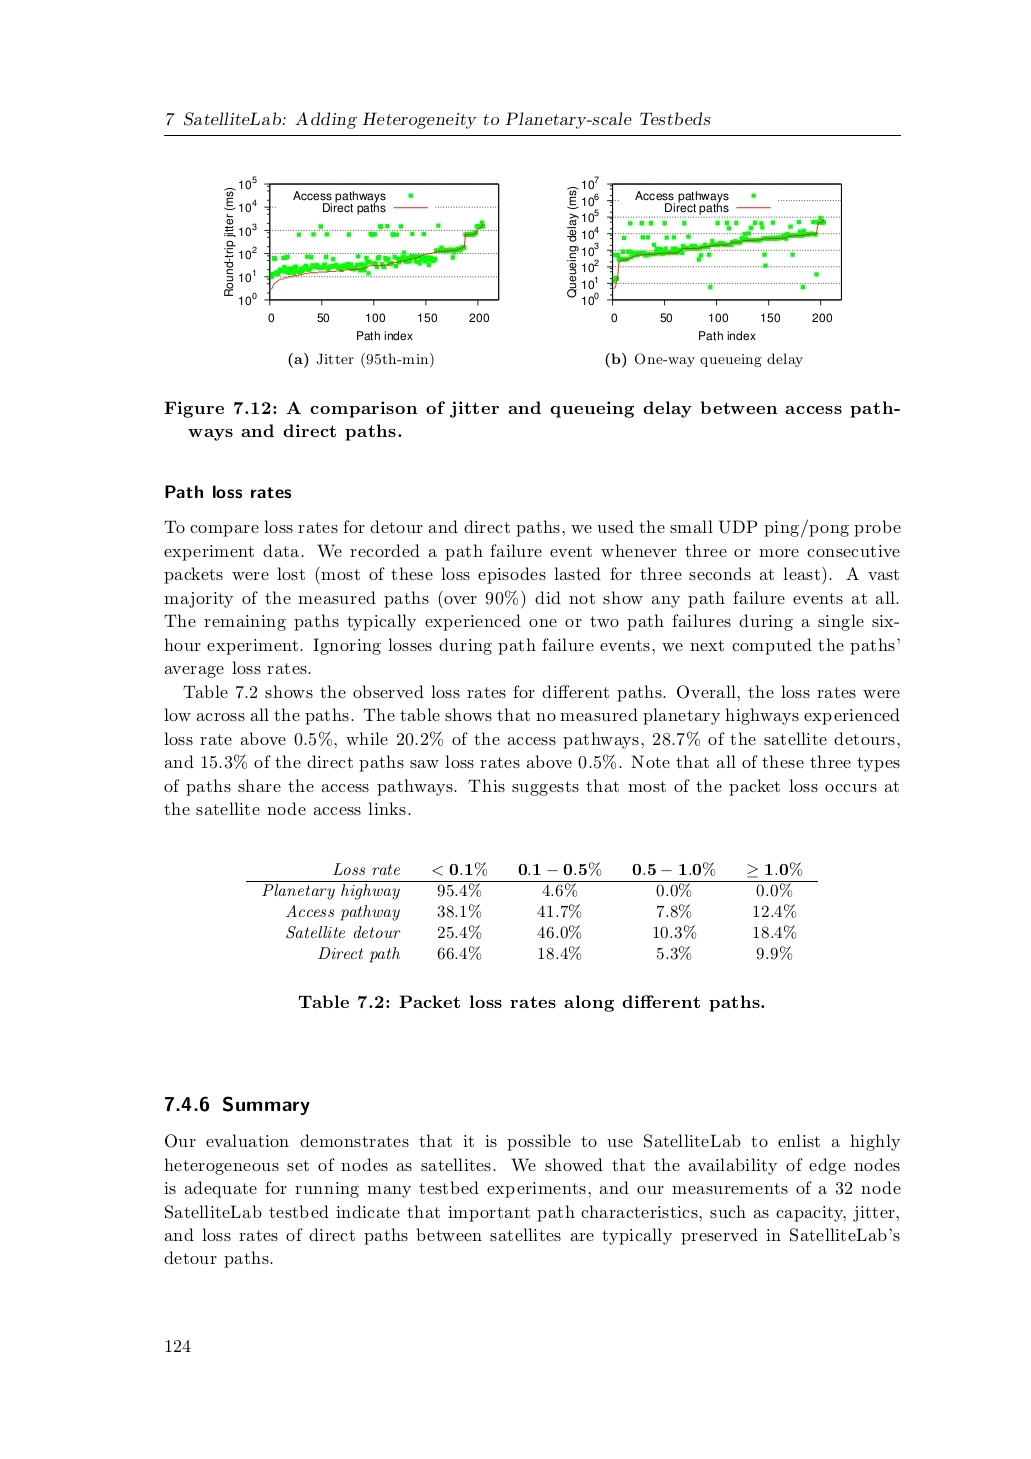Table: (245, 862, 817, 962)
figure: (224, 176, 499, 340), (567, 176, 841, 340)
